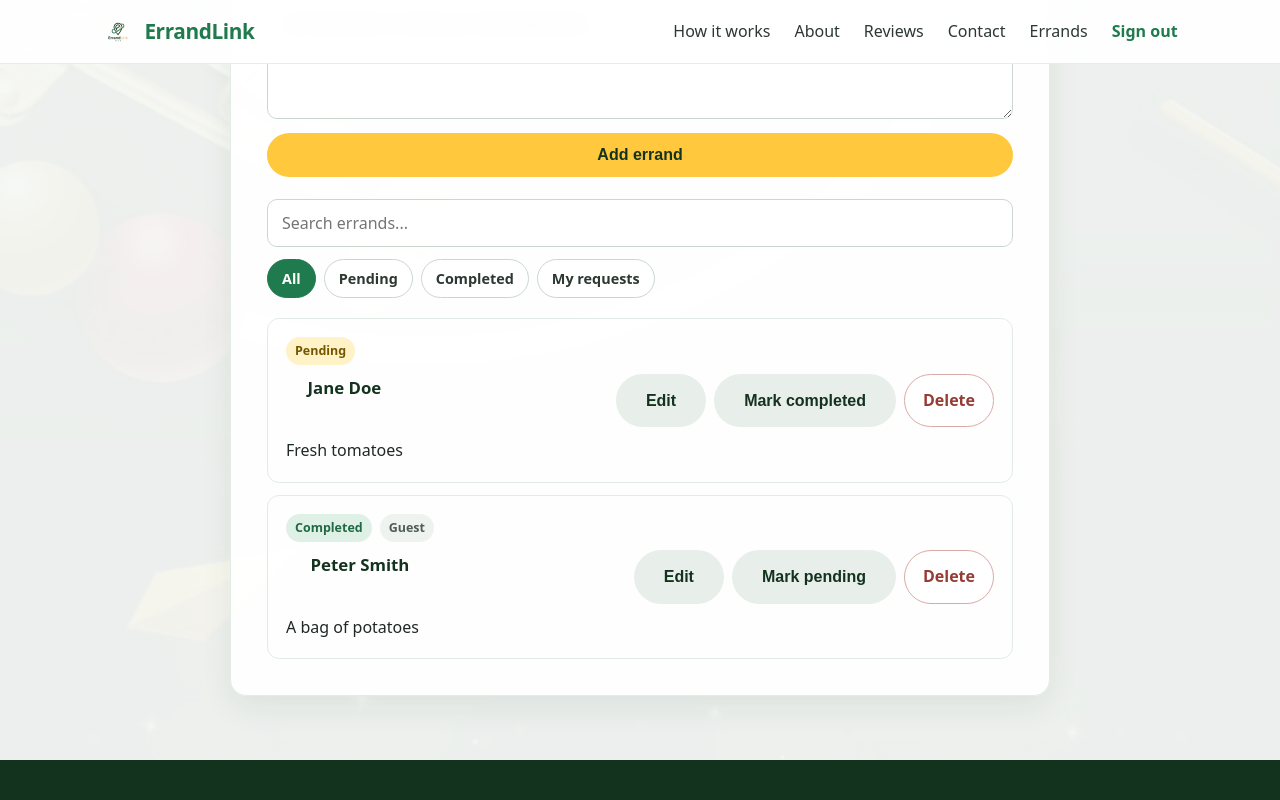
Scenario: errand requests › updates and removes an owned request
The width and height of the screenshot is (1280, 800).
(page scrolled)
Expected: the text "Fresh tomatoes" is shown, [286, 438, 403, 464]
Step 1. Click the button "Mark completed" → [805, 401], box [714, 374, 896, 427]
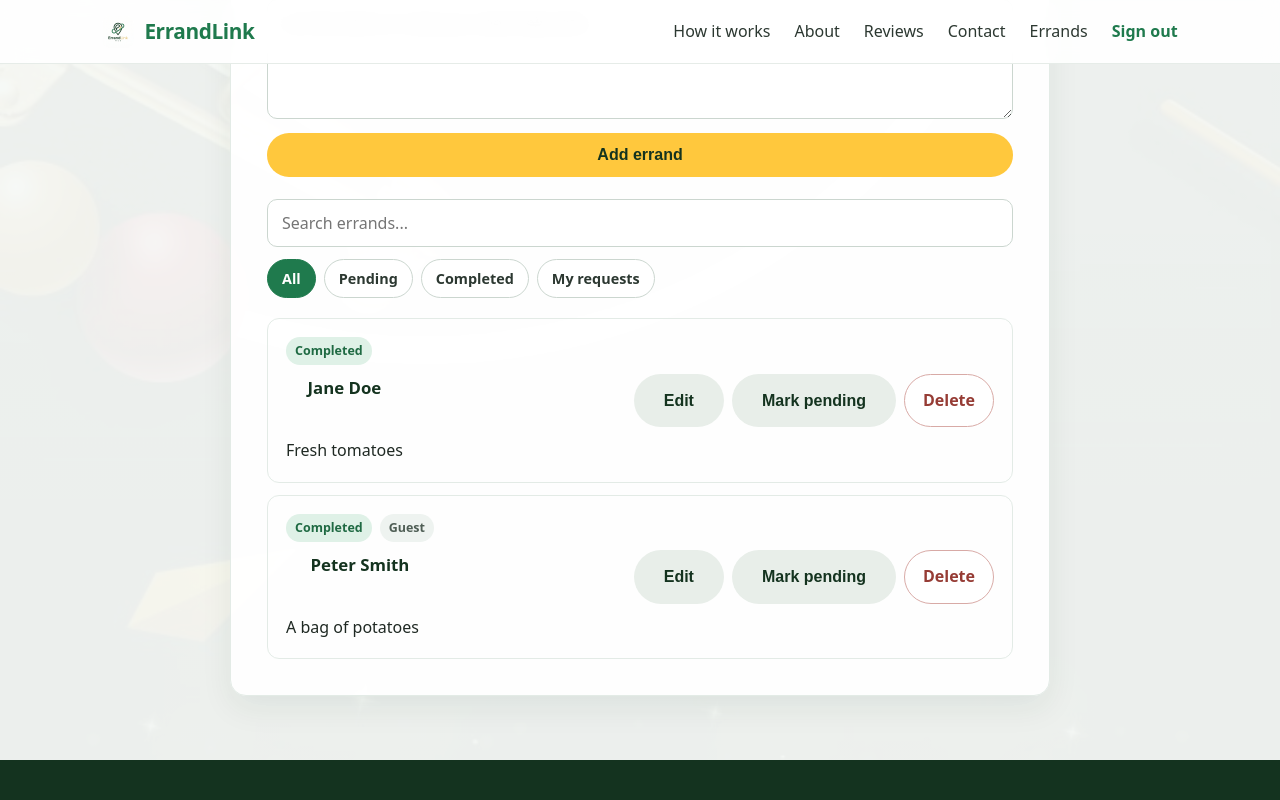
Expected: the button "Completed" is shown, [421, 259, 529, 298]
Step 2. Click the button "Delete" in the row of "Jane Doe" → [949, 401], box [904, 374, 994, 427]
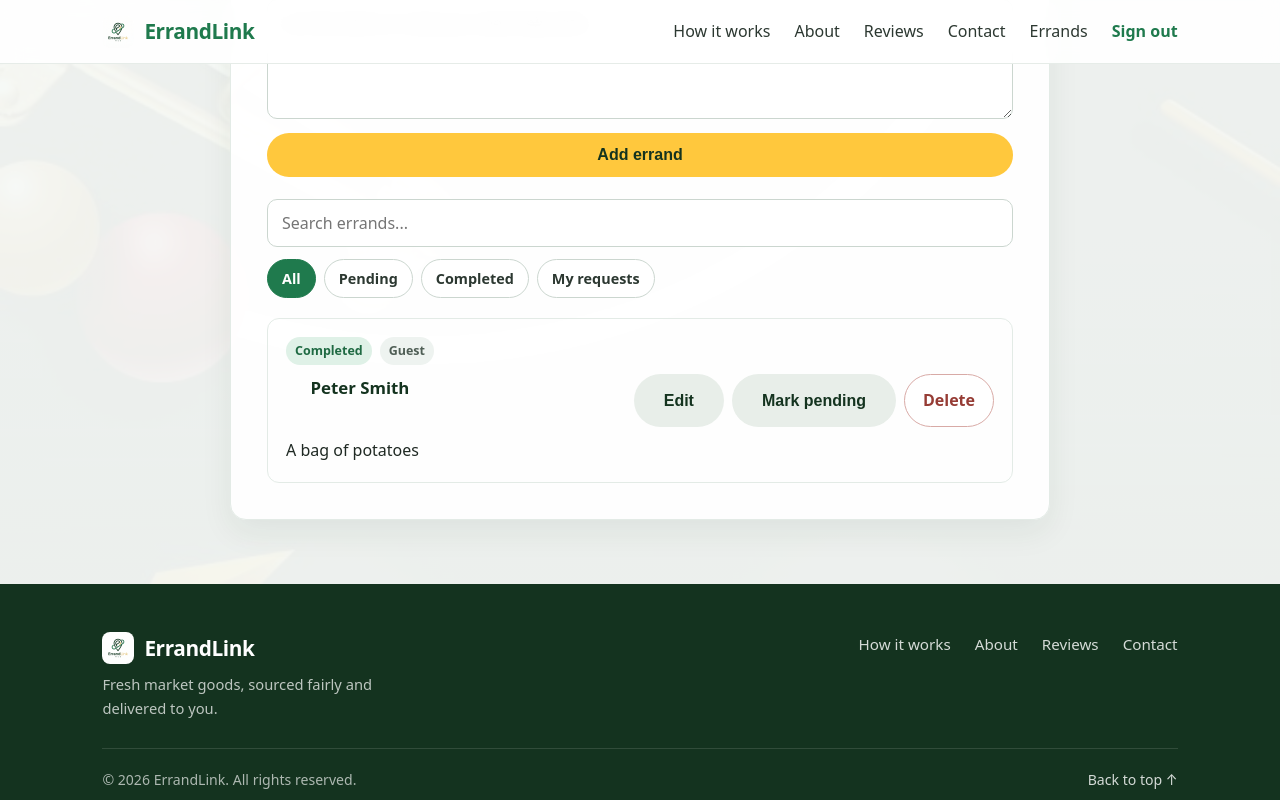
Expected: the text "Fresh tomatoes" is gone
